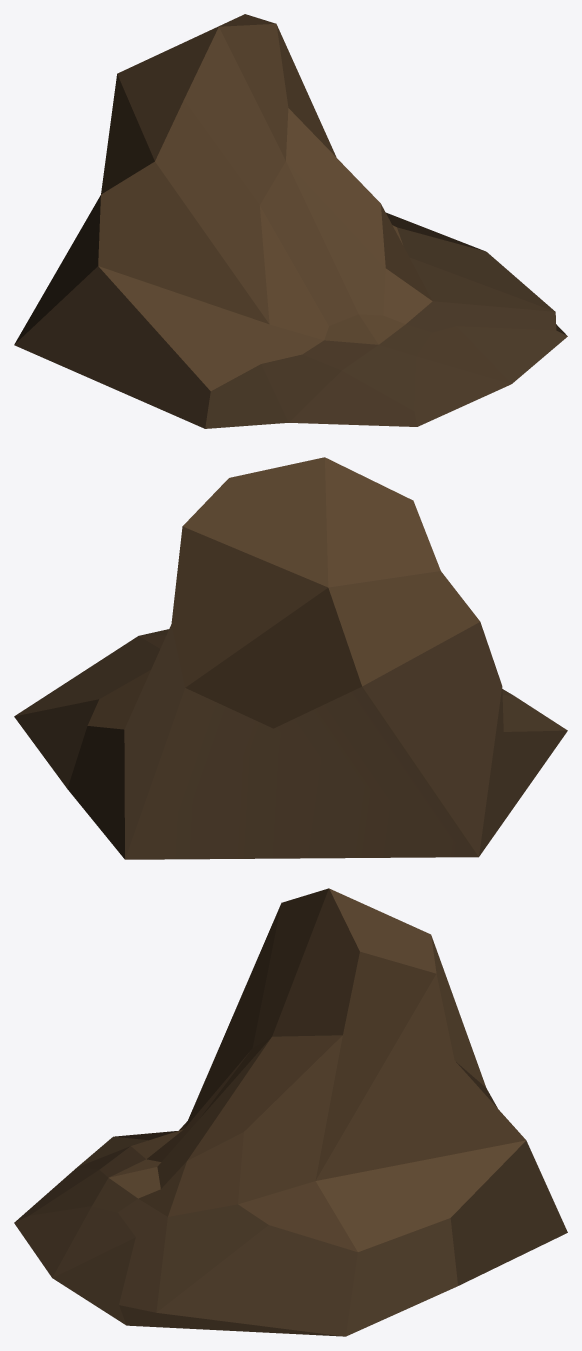
The model's file is Stone_5_Brown.fbx.
The picture shows the model from 3 angles, top to bottom: view 1: azimuth 30°, elevation 25°; view 2: azimuth 150°, elevation 25°; view 3: azimuth 270°, elevation 25°; orthographic projection. The views are drawn at different scales.
Parts seen in each view (by area): view 1: Stone_5_Brown_Part_2, Stone_5_Brown_Part_1; view 2: Stone_5_Brown_Part_1, Stone_5_Brown_Part_2; view 3: Stone_5_Brown_Part_2, Stone_5_Brown_Part_1.
Part boxes in pixels (left/top/right/bottom): Stone_5_Brown_Part_2: left=98, top=14, right=432, bottom=390; Stone_5_Brown_Part_1: left=14, top=195, right=567, bottom=428; Stone_5_Brown_Part_1: left=14, top=622, right=567, bottom=859; Stone_5_Brown_Part_2: left=87, top=457, right=480, bottom=729; Stone_5_Brown_Part_2: left=109, top=888, right=526, bottom=1251; Stone_5_Brown_Part_1: left=14, top=1062, right=567, bottom=1336.
Size of the model in its own units: 337 by 216 by 348.
